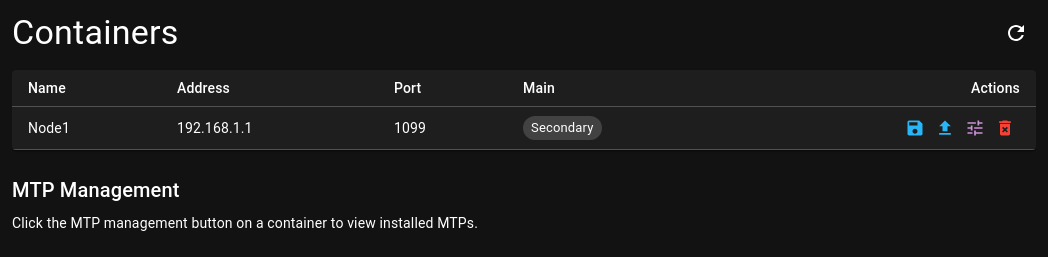
Test: ContainersPage › Given container listed, When MTP management button clicked, Then lists MTPs
The width and height of the screenshot is (1048, 257).
Expected: the text "Node1" is shown, x1=12 y1=106 x2=161 y2=150
Click the button named "Manage MTPs": (975, 128) x1=960 y1=113 x2=990 y2=143
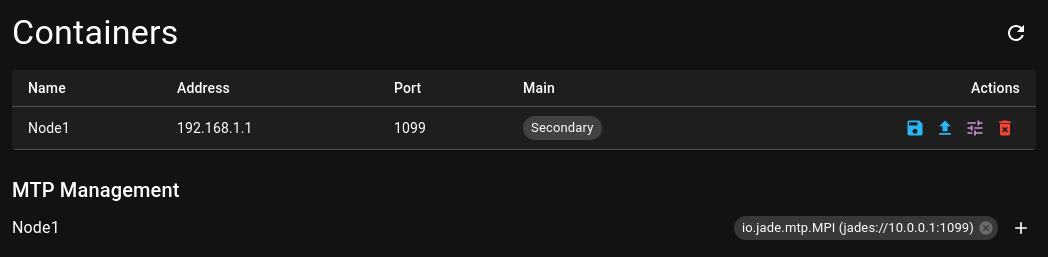
Result: the text "io.jade.mtp.MPI (jades://10.0.0.1:1099)" is shown at x1=734 y1=218 x2=982 y2=238
